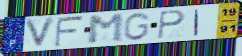F: (53, 15, 86, 48)
G: (122, 12, 152, 42)
I: (193, 9, 201, 37)
M: (87, 12, 125, 45)
P: (157, 9, 187, 41)
V: (22, 16, 58, 51)
